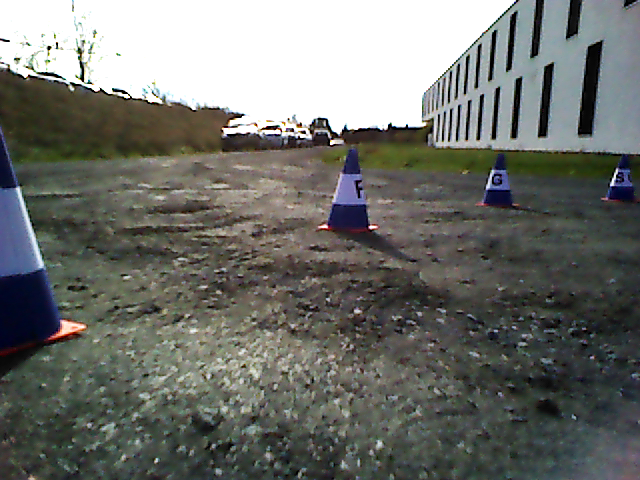bluecone: (1, 124, 61, 341), (329, 148, 370, 228), (483, 153, 515, 204), (608, 156, 634, 201)
